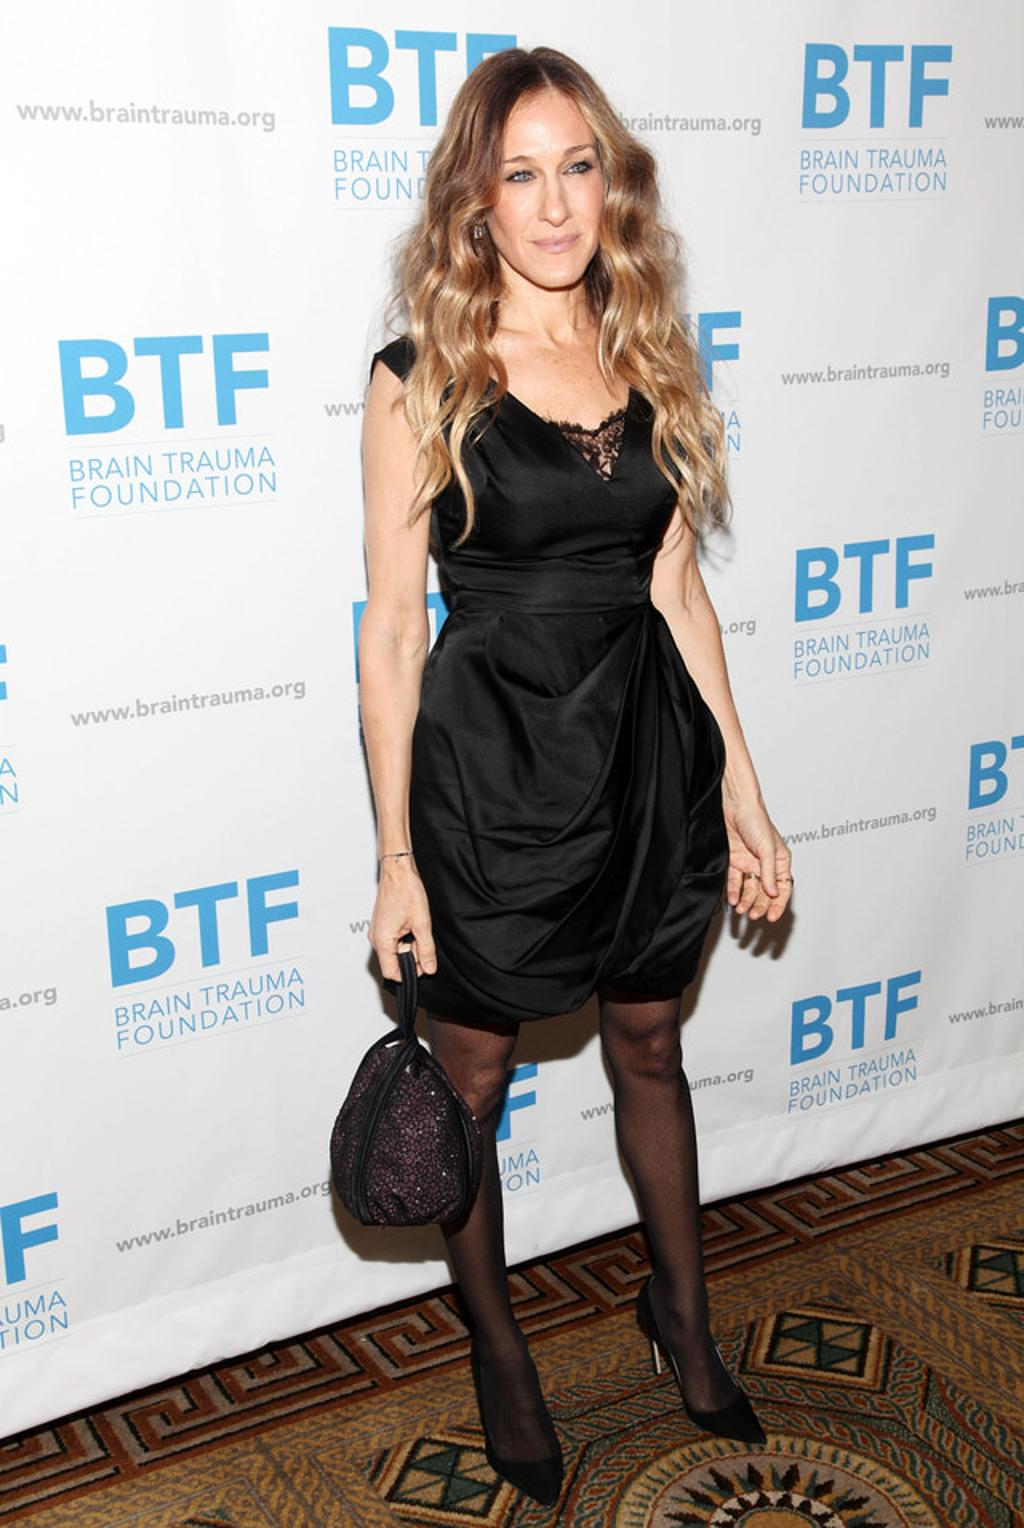face: (484, 84, 606, 290)
